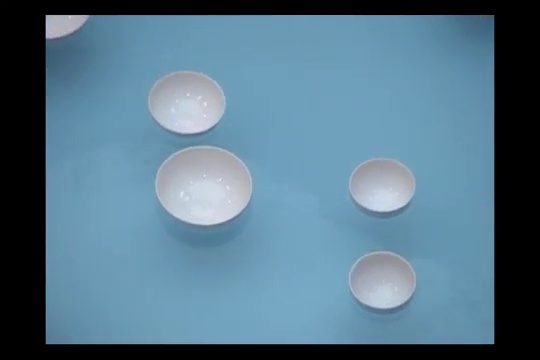bowl: (155, 145, 253, 231), (148, 70, 226, 139), (348, 251, 417, 316), (348, 158, 415, 219), (46, 15, 89, 44)
